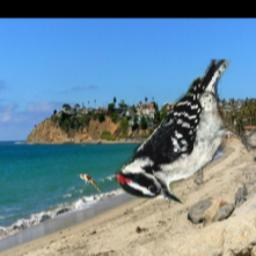Cuckoo: (78, 174, 101, 194)
Woodpecker: (115, 60, 256, 205)
